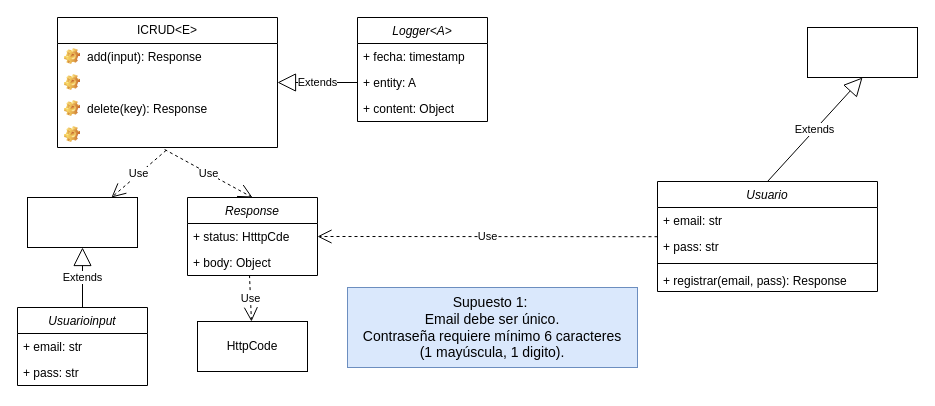
Some shapes in this 935 by 406 pixel diagram are drawn without their labels. Each missing label, with the centre of its shape:
"query(key): Response" belongs at point (167, 134).
"update(key, input): Response" belongs at point (167, 82).
"«interface» ICRUD" belongs at point (862, 52).
"«interface» input" belongs at point (82, 222).
